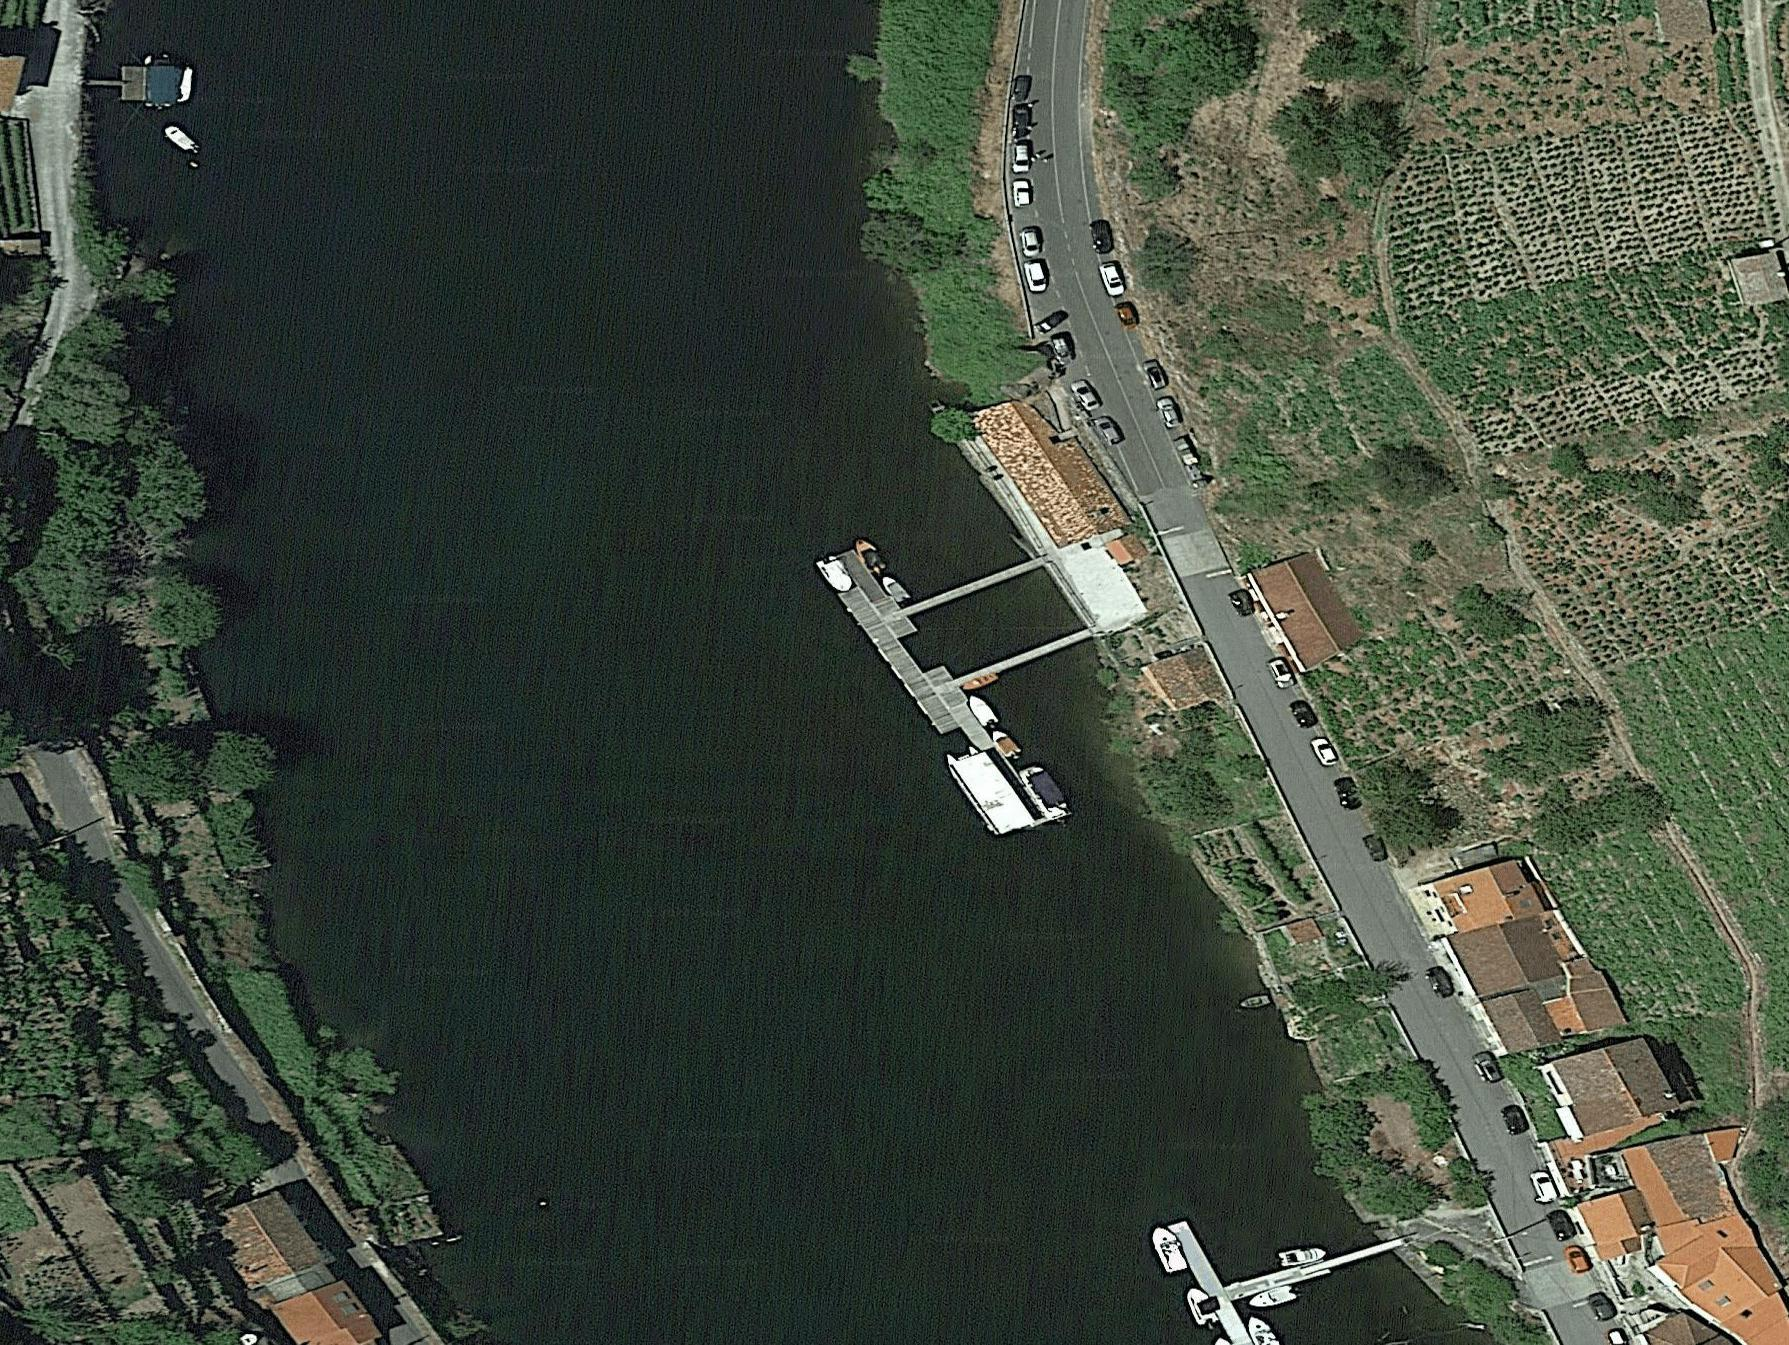harbor: (811, 492, 1119, 834), (1155, 1188, 1415, 1337), (86, 59, 189, 110)
ship: (1017, 762, 1070, 824), (1140, 1221, 1195, 1276), (1248, 1276, 1301, 1320), (1273, 1233, 1330, 1272), (984, 725, 1025, 763), (875, 569, 916, 608), (160, 120, 199, 158), (964, 689, 1003, 728)
small-vehicle: (1097, 260, 1128, 300), (1022, 253, 1050, 294), (1313, 736, 1344, 769), (1268, 657, 1296, 688), (1143, 357, 1171, 389), (1017, 227, 1046, 259), (1090, 222, 1116, 251), (1012, 177, 1032, 211)
